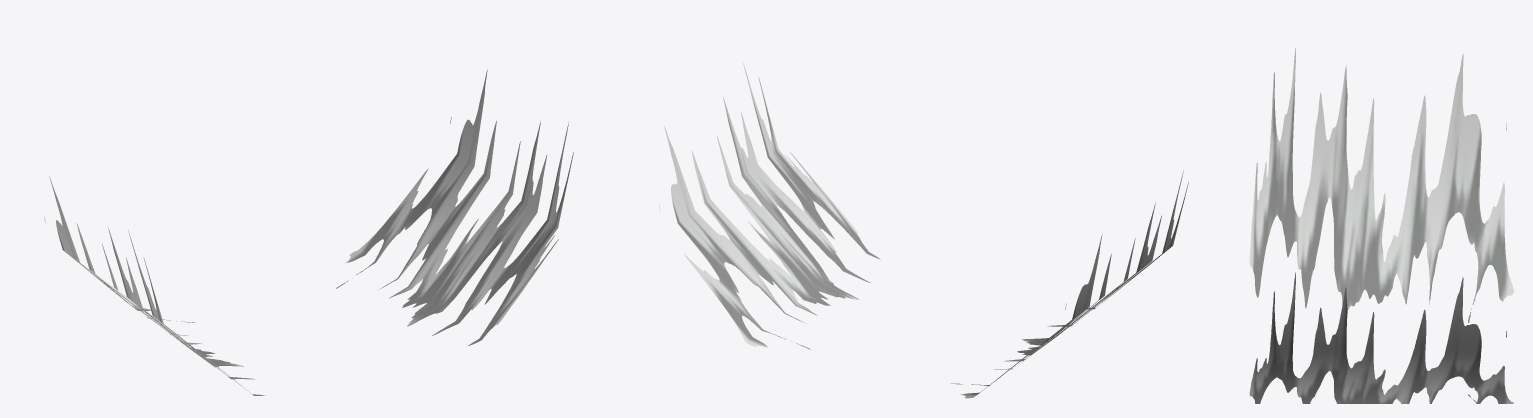
Rendered from smoke_zhixian_001.FBX.
3 renders of one model, left to right at view 1: azimuth 30°, elevation 25°; view 2: azimuth 150°, elevation 25°; view 3: azimuth 270°, elevation 25°, orthographic. The views are drawn at different scales.
Parts seen in each view (by area): view 1: smoke_zhixian_001; view 2: smoke_zhixian_001; view 3: smoke_zhixian_001.
Part boxes in pixels (x1=…): smoke_zhixian_001: x1=44, y1=69, x2=573, y2=395; smoke_zhixian_001: x1=659, y1=62, x2=1188, y2=398; smoke_zhixian_001: x1=1249, y1=47, x2=1513, y2=403.
Bounding box in the file's own units: 200 × 100 × 100.
